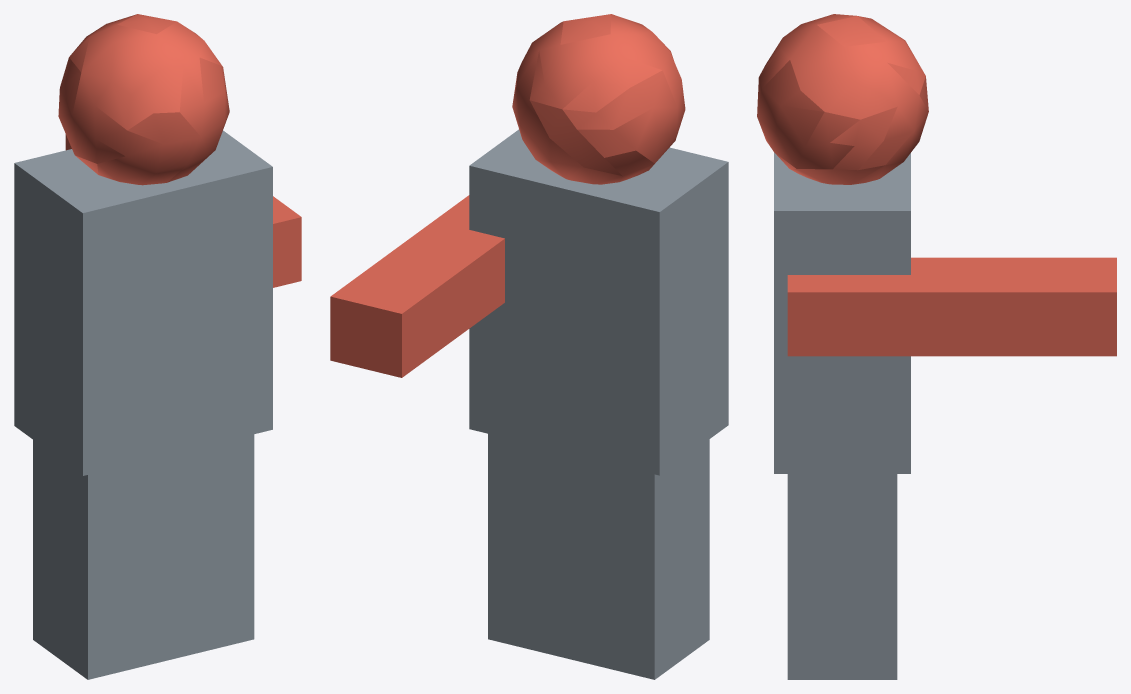
Rendered from SU_Hero_Morozova_LOD2.glb.
The picture shows the model from 3 angles, left to right: view 1: azimuth 30°, elevation 25°; view 2: azimuth 150°, elevation 25°; view 3: azimuth 270°, elevation 25°; orthographic projection.
Visible parts, largest first — view 1: Head; view 2: Head; view 3: Head.
Part boxes in pixels (x1,y1,x2,y2): Head: (14,14,301,679); Head: (330,14,728,679); Head: (757,14,1116,679).
Bounding box in the file's own units: 66.5 × 174 × 91.81.
